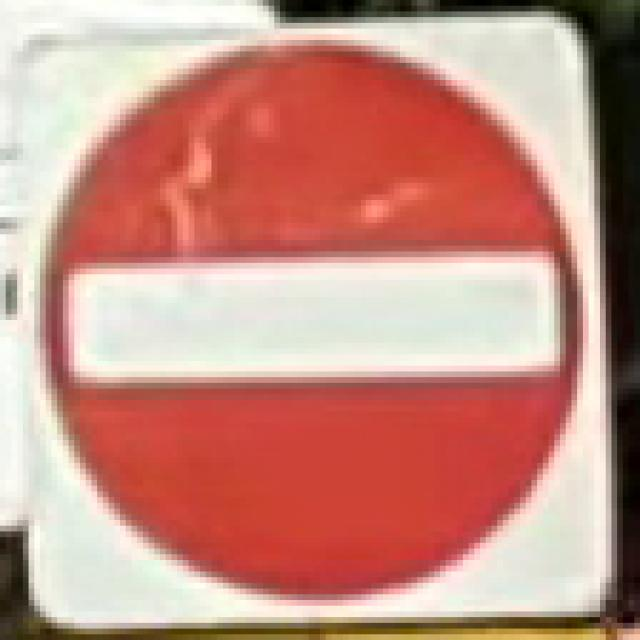noentry_sign: (17, 11, 612, 623)
